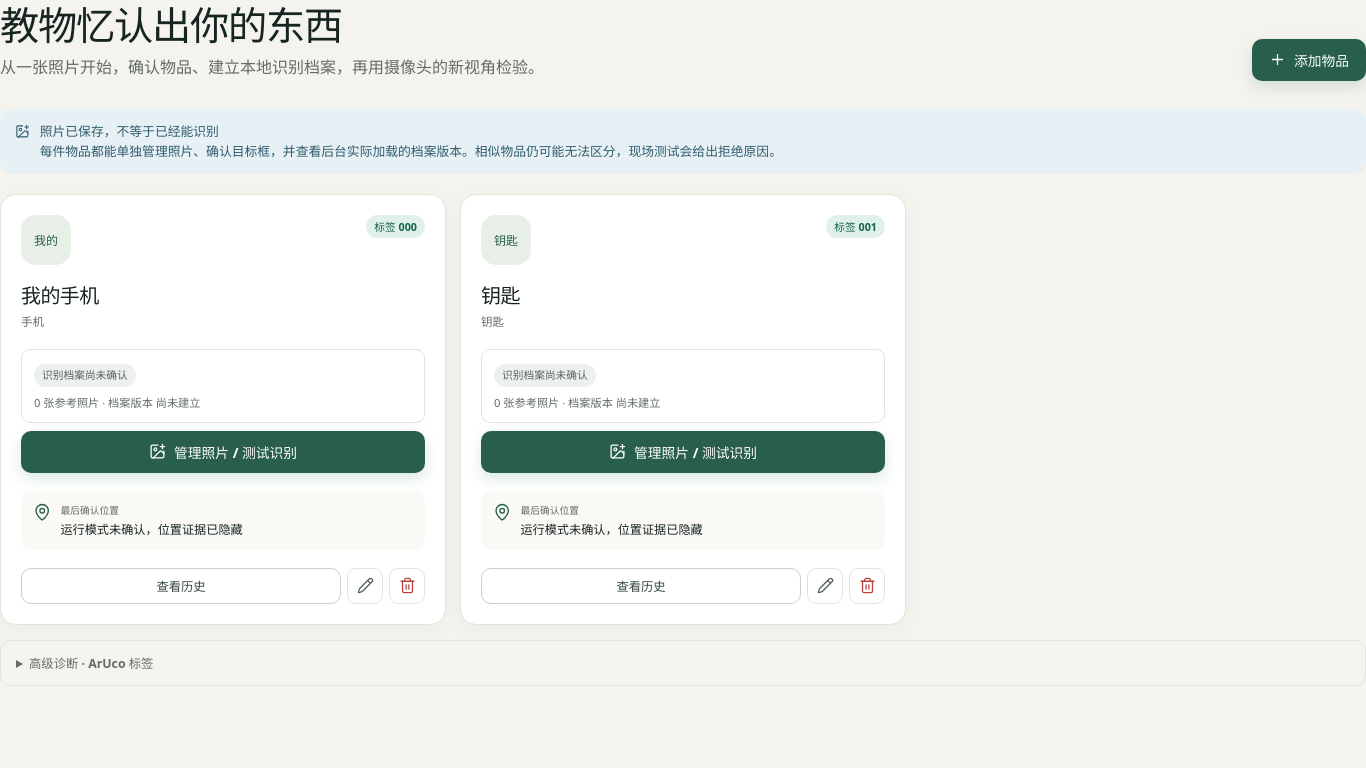
Scenario: Mock 组件单测：物品标签绑定 › 即使绕过禁用选项提交已占用编号，页面也不发送保存请求
The image size is (1366, 768).
Expected: the text "标签 000" is shown, top-left (366, 215), bottom-right (425, 238)
Click the button titled "编辑" below "我的手机". click: (365, 586)
box: top-left (347, 568), bottom-right (383, 604)
(page scrolled)
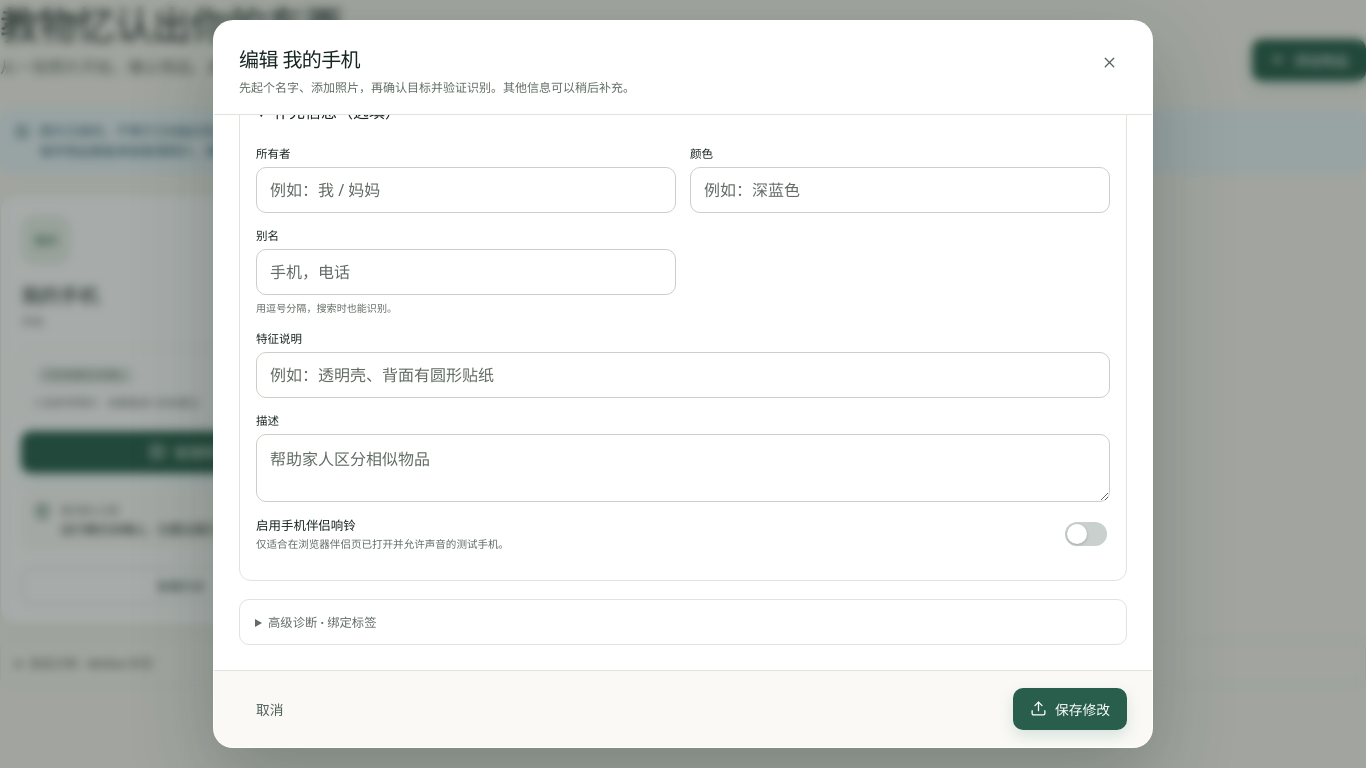
Click the heading "高级诊断 · 绑定标签". click: (322, 622)
box: top-left (268, 614), bottom-right (376, 631)
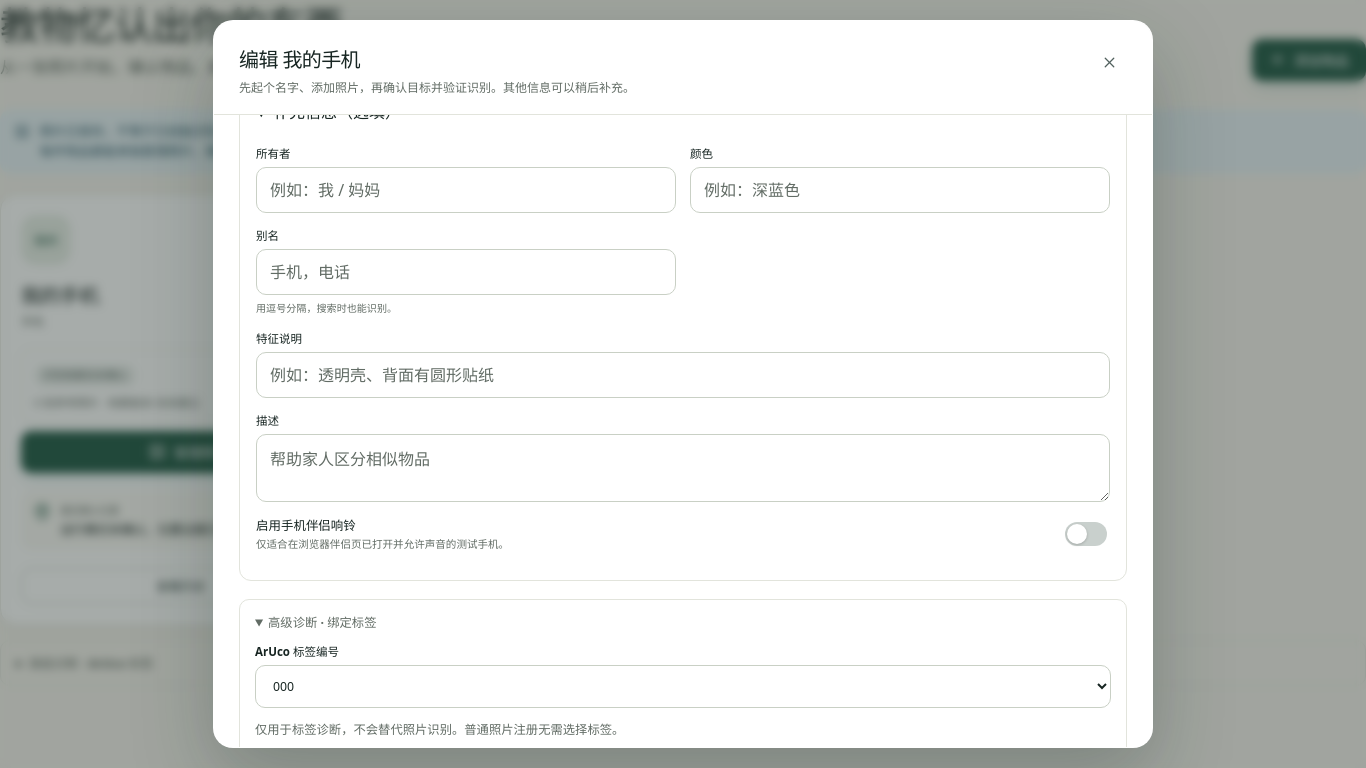
Select "001（已被其他物品使用）" in the dropdown labelled "ArUco 标签编号". click: (683, 686)
box: top-left (255, 665), bottom-right (1111, 708)
(page scrolled)
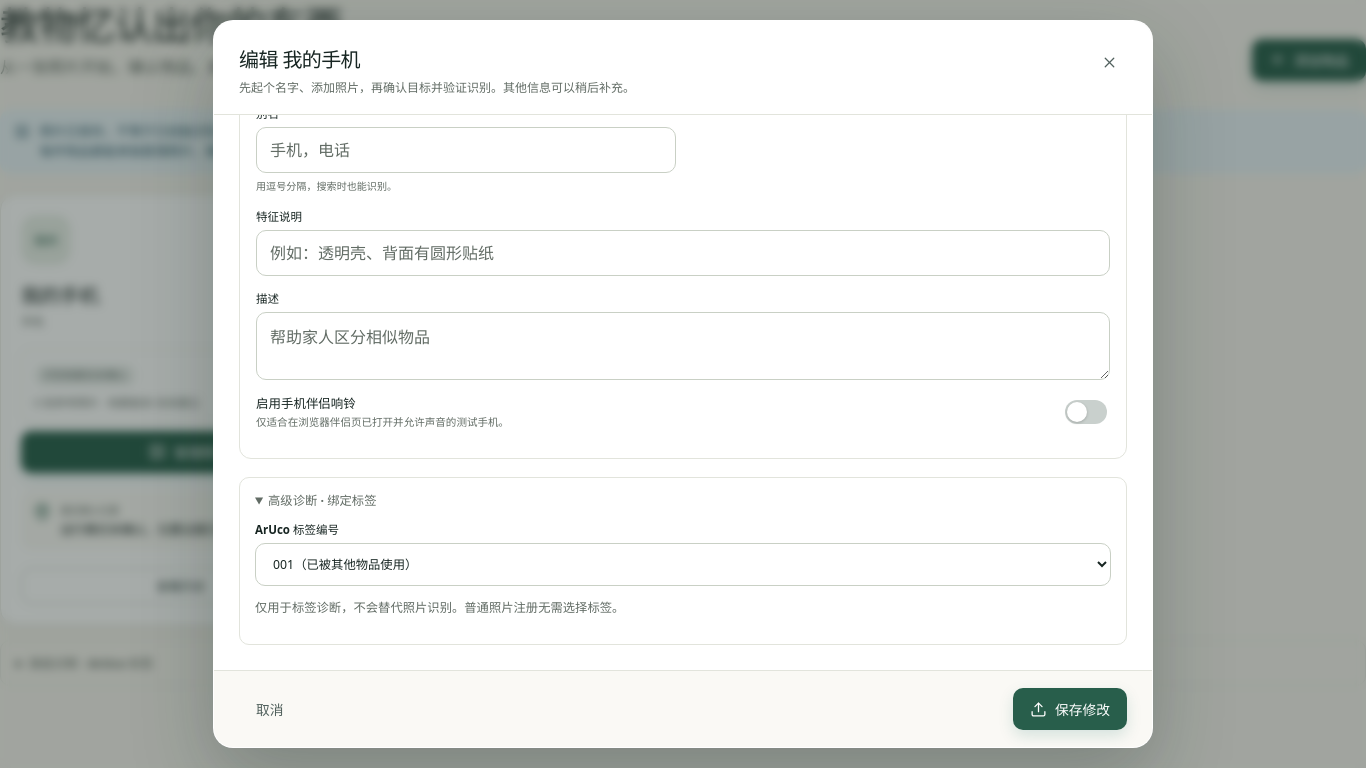
Click the button "保存修改". click: (1070, 709)
box: top-left (1013, 688), bottom-right (1127, 730)
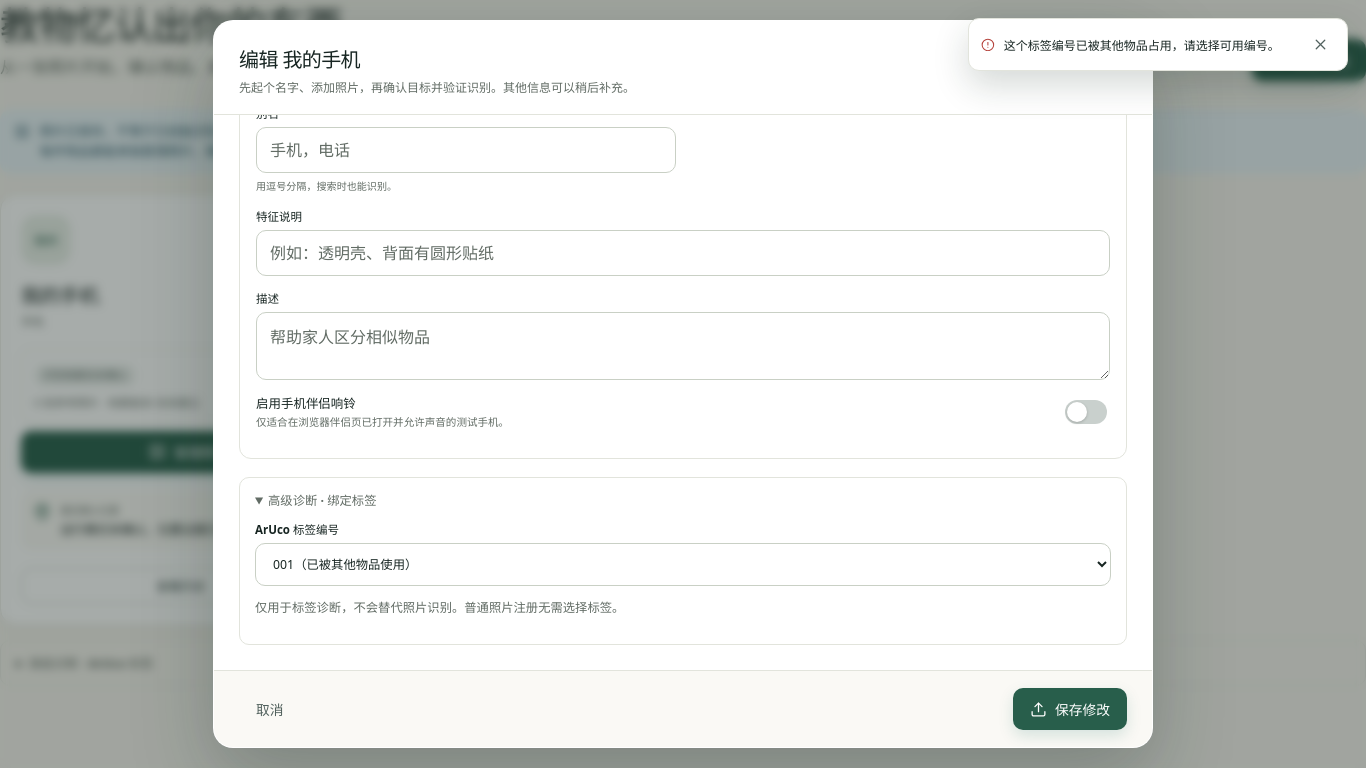
Expected: the text "这个标签编号已被其他物品占用，请选择可用编号。" is shown, top-left (1004, 36), bottom-right (1297, 54)
